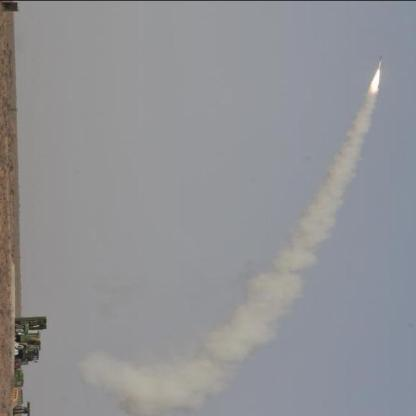MIL_TBM: (376, 54, 385, 73)
